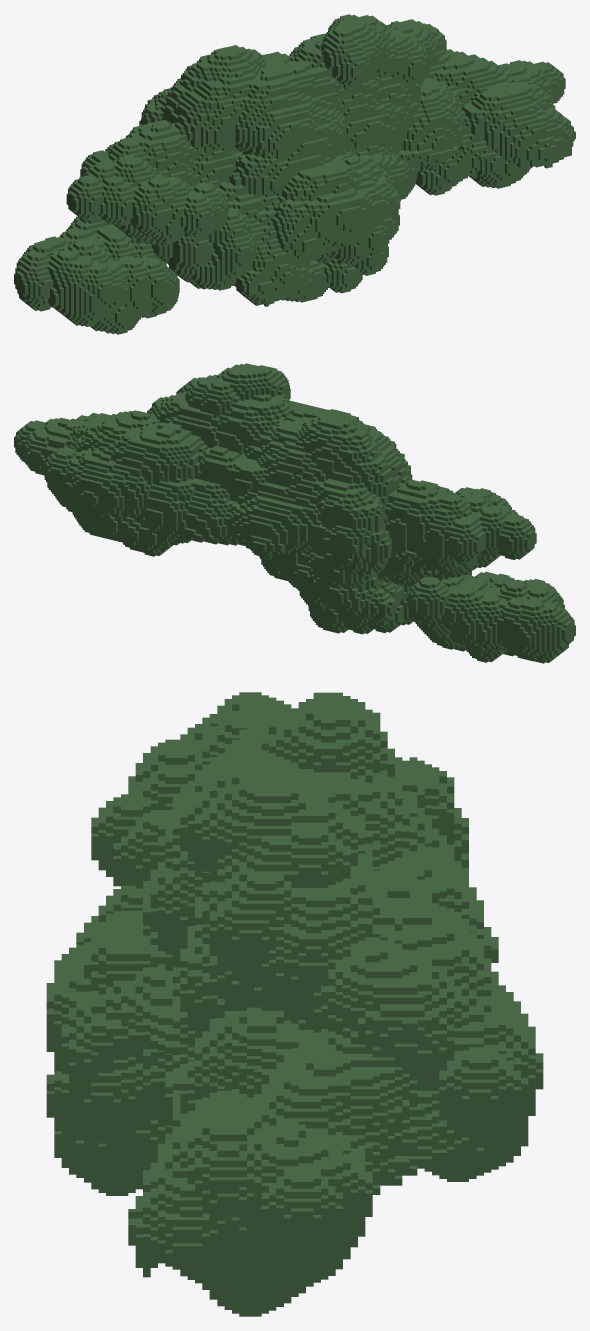
Rendered from forest1.4-107.obj.
3 renders of one model, top to bottom at view 1: azimuth 30°, elevation 25°; view 2: azimuth 150°, elevation 25°; view 3: azimuth 270°, elevation 25°, orthographic. The views are drawn at different scales.
Size of the model in its own units: 17 by 7.1 by 6.7.
1 material, 1 textured.
